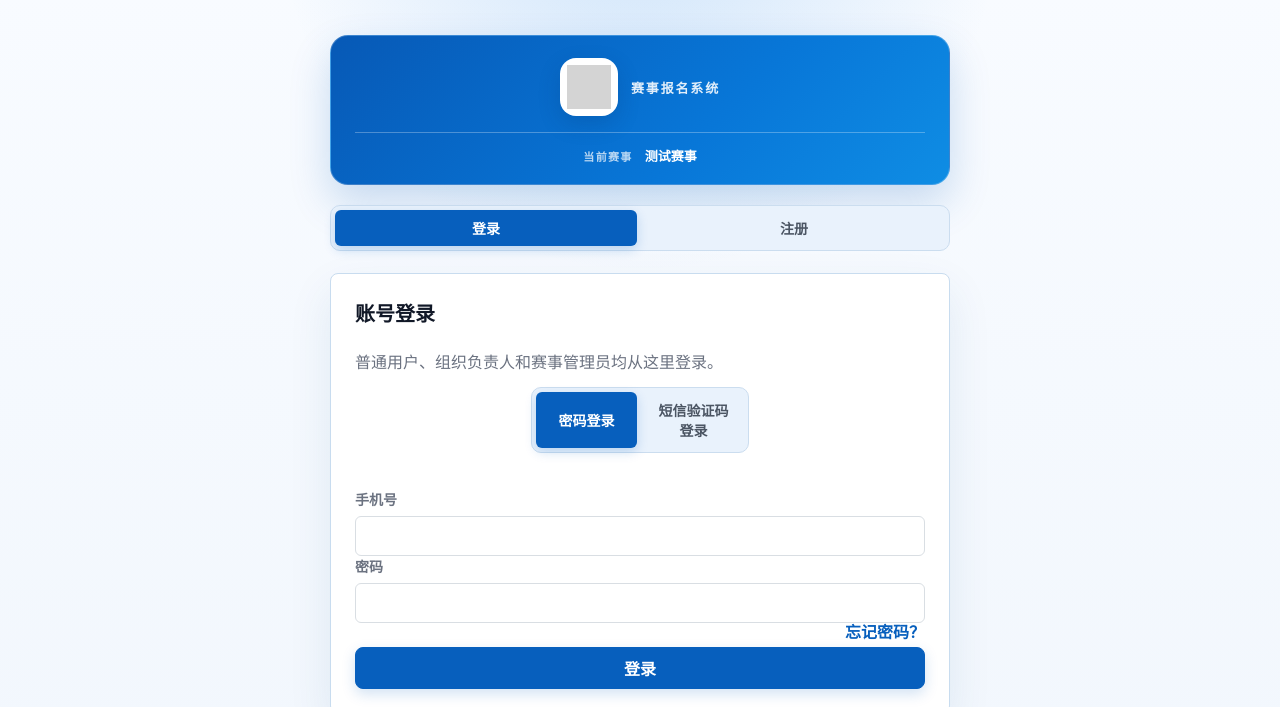
Scenario: App session integration › shows an invalid SMS login message inside the SMS form
Click the button "短信验证码登录" at (694, 420), box [643,392,744,448]
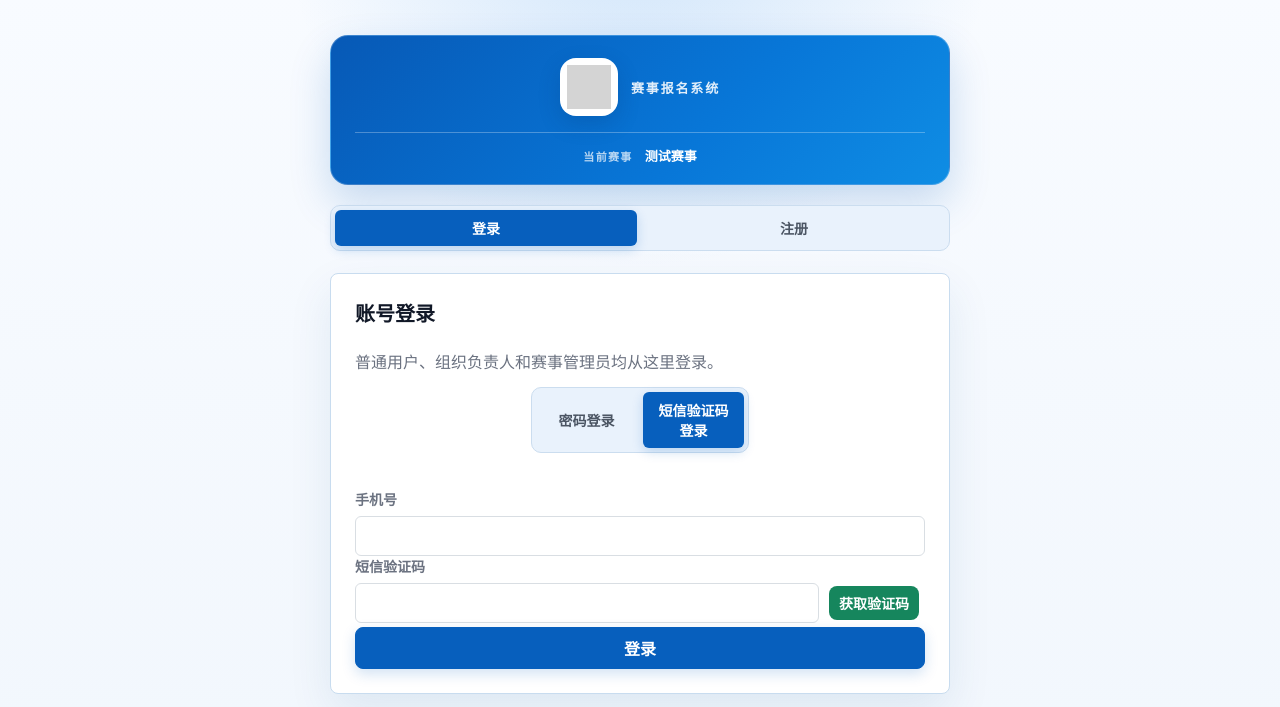
Type "13800000001" into the field with test id "sms-login-phone" at (640, 536), box [355,516,925,556]
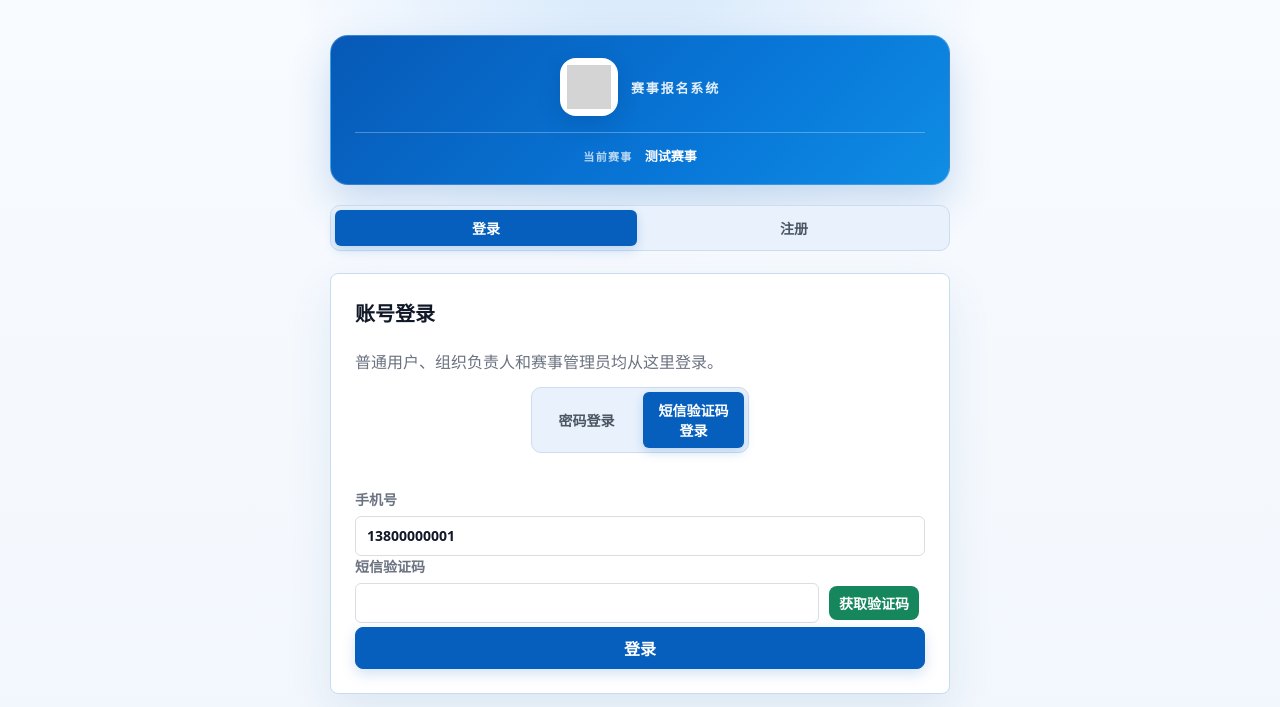
Type "123456" into the field with test id "sms-login-code" at (587, 603), box [355,583,819,623]
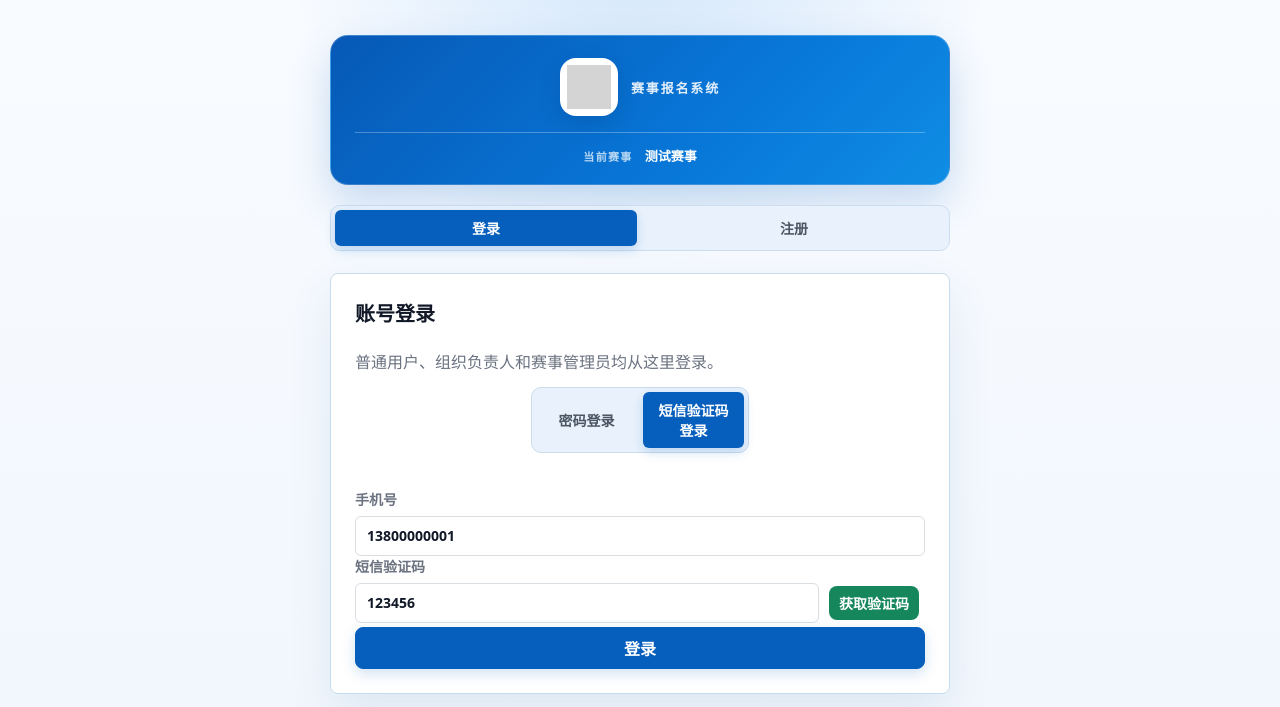
Submit the form, box [355,489,925,669]
(page scrolled)
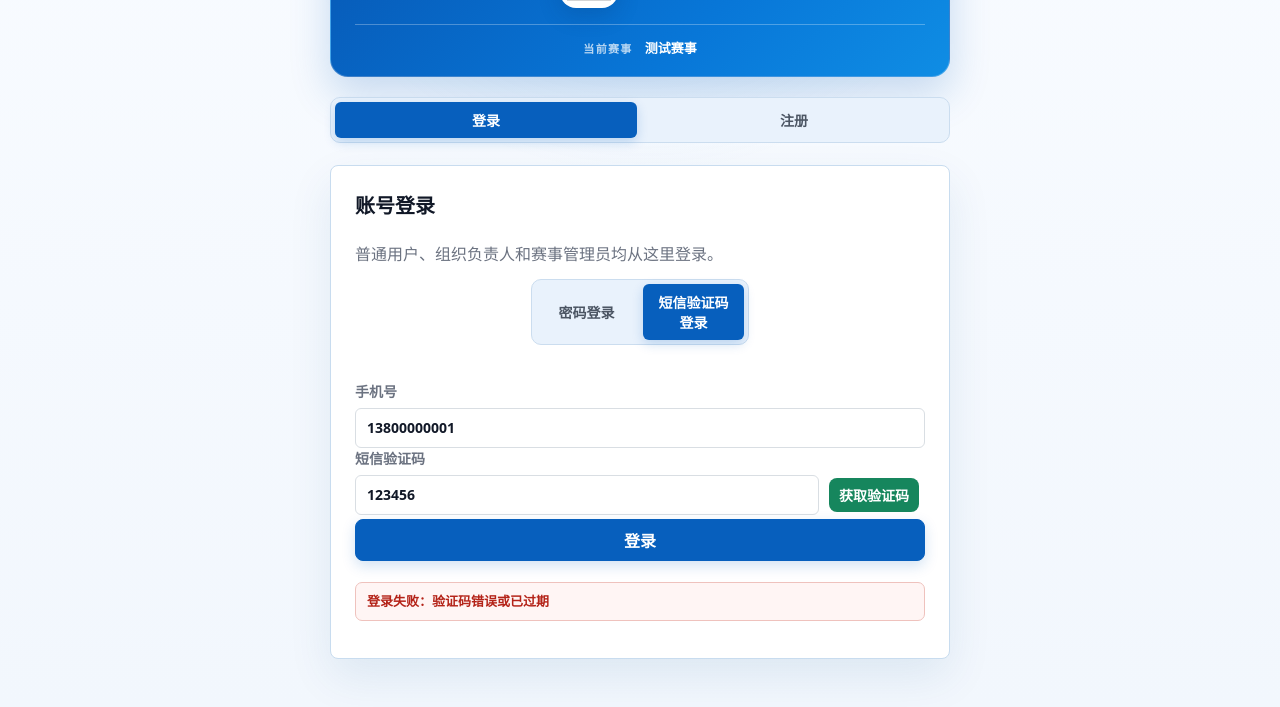
Check: the message with test id "login-error" shows "验证码错误或已过期", box [367,592,549,610]
